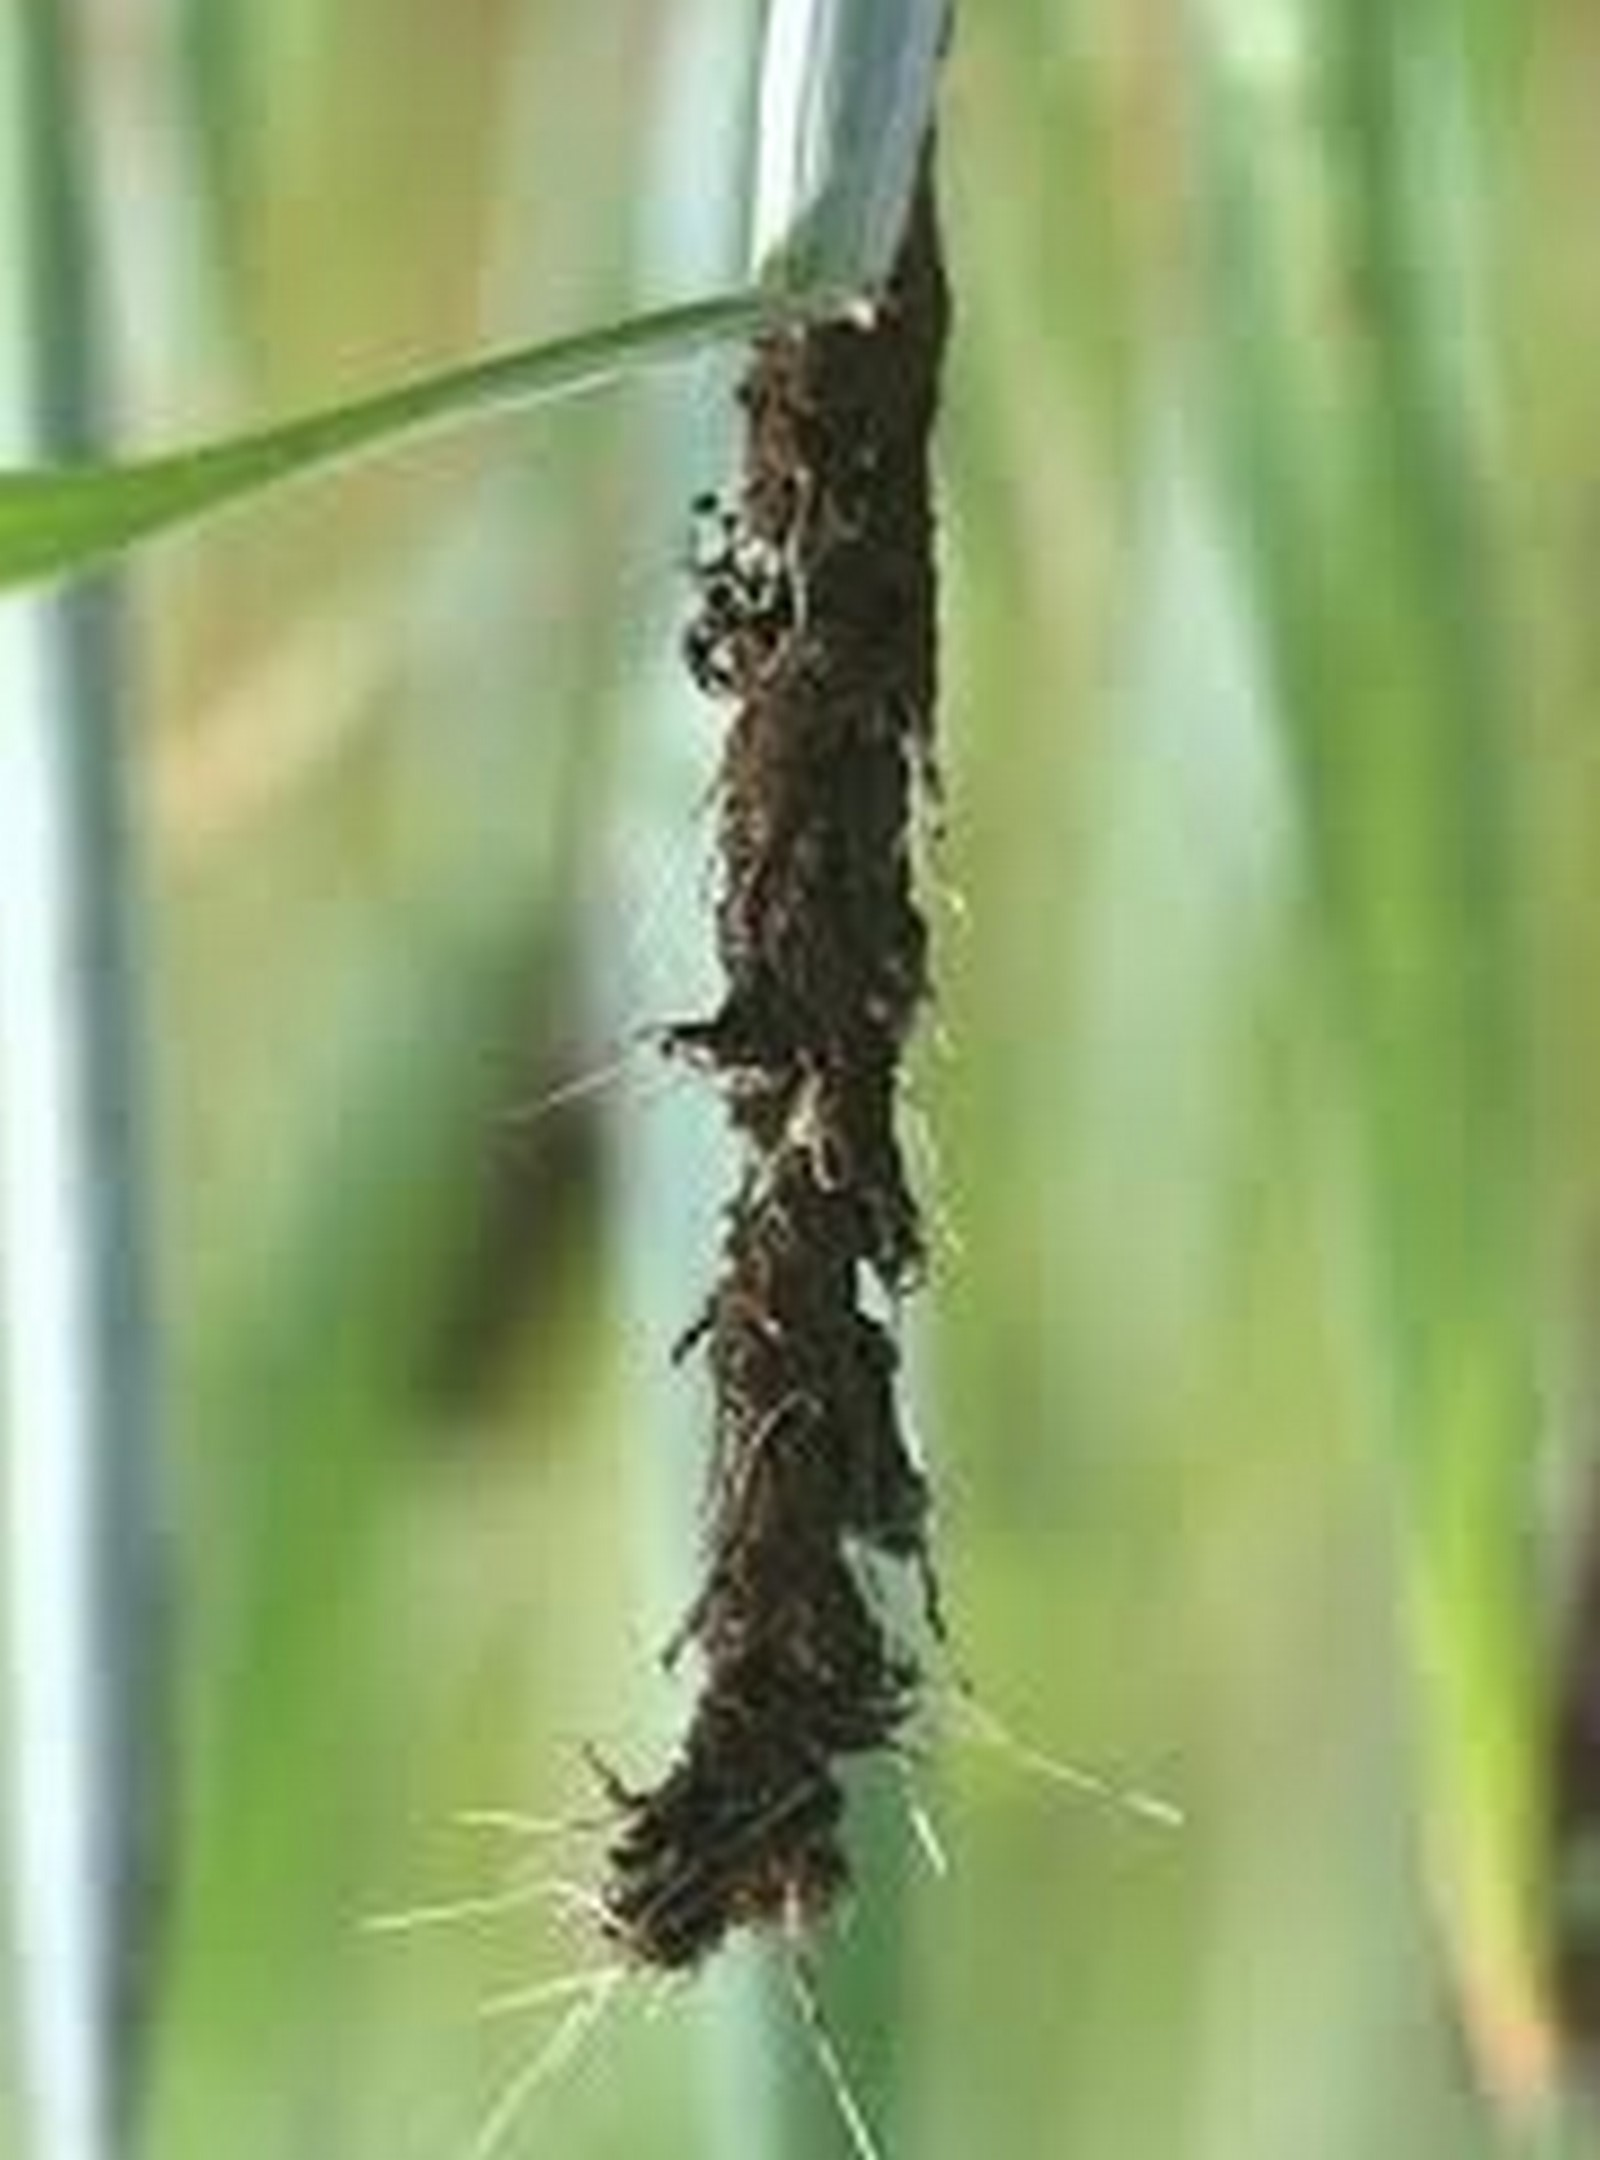Wheat Loose Smut: (585, 242, 1077, 2024)
